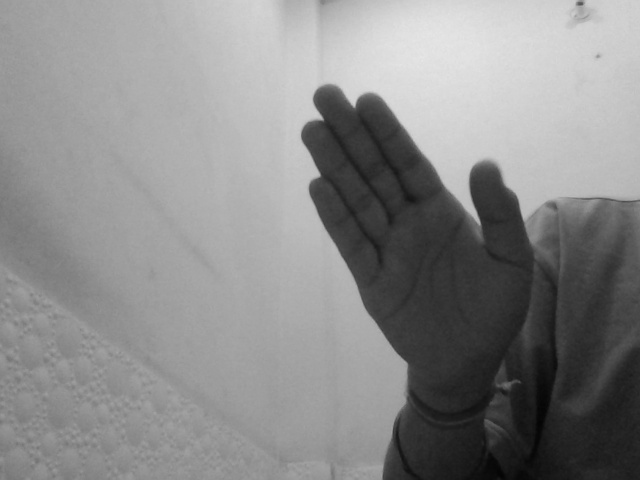Hello: (298, 80, 535, 402)
